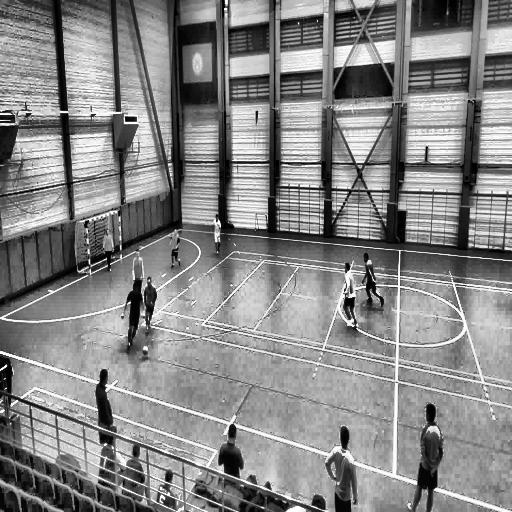ball: (142, 344, 148, 356)
player: (406, 404, 443, 512), (327, 425, 357, 512), (123, 279, 145, 348), (362, 253, 384, 306), (340, 262, 356, 332), (144, 276, 157, 336), (103, 228, 115, 273), (132, 249, 144, 290), (170, 226, 180, 266), (213, 214, 222, 255)
